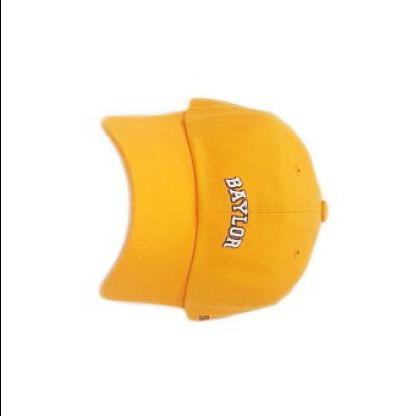cap: (90, 86, 332, 326)
